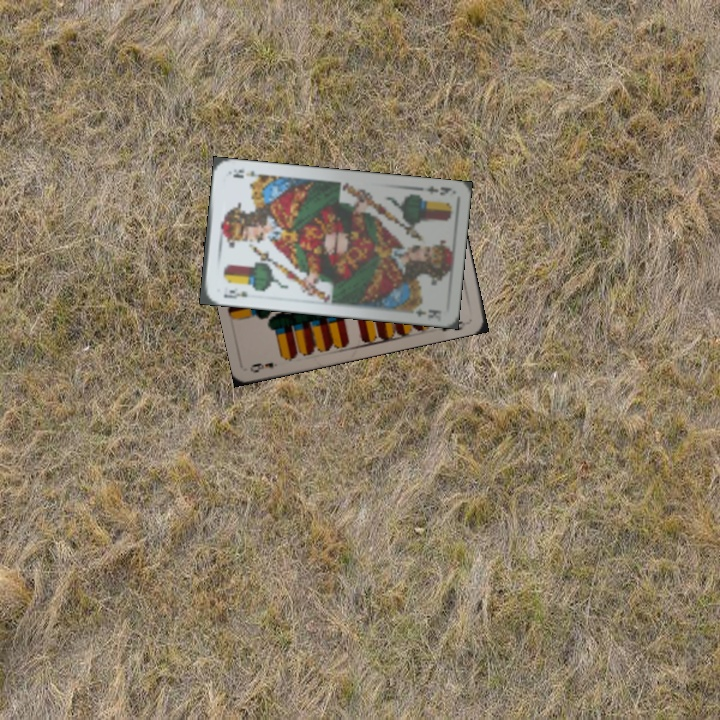E9: (246, 358, 276, 375)
EK: (414, 182, 453, 198), (220, 285, 250, 301)
